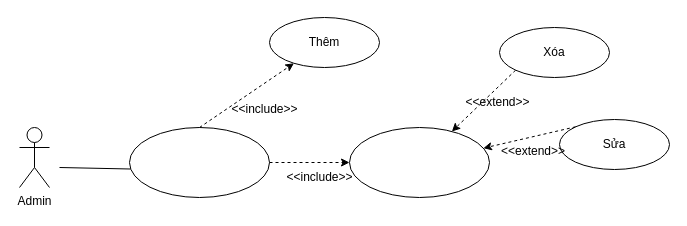
This 687x226 diagram has some shape labels left out. The shapes that lost their labels are listed below. From the top down, each one's centre as x and y in pixels, then its label:
At (x=199, y=162): "Quản lí NXB".
At (x=419, y=162): "Xem Danh sách".
